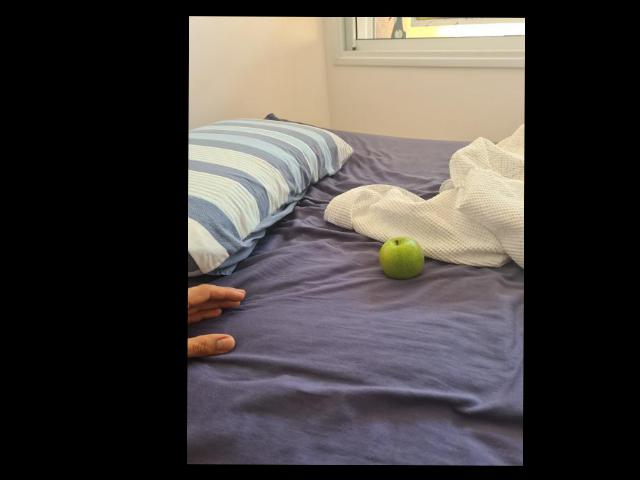apple: (381, 233, 424, 279)
